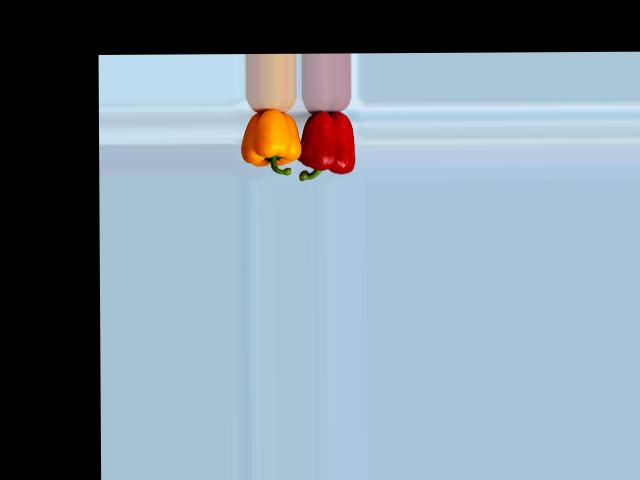bell_pepper: (296, 103, 360, 178)
